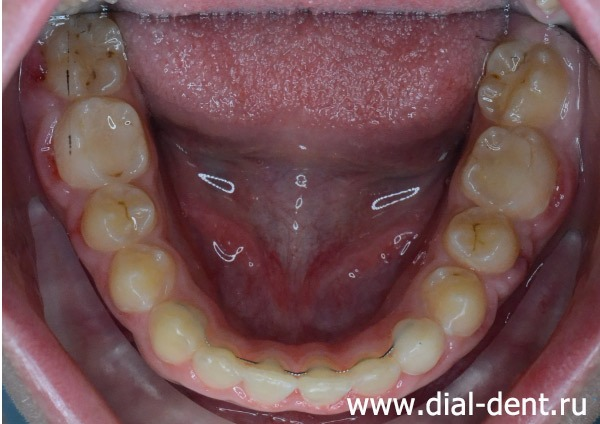LL1BC_healthy: (423, 277, 485, 336)
LL1M_healthy: (462, 129, 553, 213)
LL2BC_decay: (446, 206, 517, 269)
LL2M_decay: (475, 42, 566, 123)
LLCI_decay: (299, 356, 347, 398)
LLC_decay: (393, 318, 443, 371)
LLLI_decay: (351, 355, 400, 392)
LR1BC_healthy: (111, 245, 171, 308)
LR1M_decay: (55, 98, 148, 185)
LR2BC_decay: (82, 184, 154, 248)
LR2M_decay: (48, 20, 122, 97)
LRCI_decay: (249, 354, 296, 400)
LRC_decay: (150, 298, 208, 365)
LRLI_decay: (201, 337, 248, 393)
